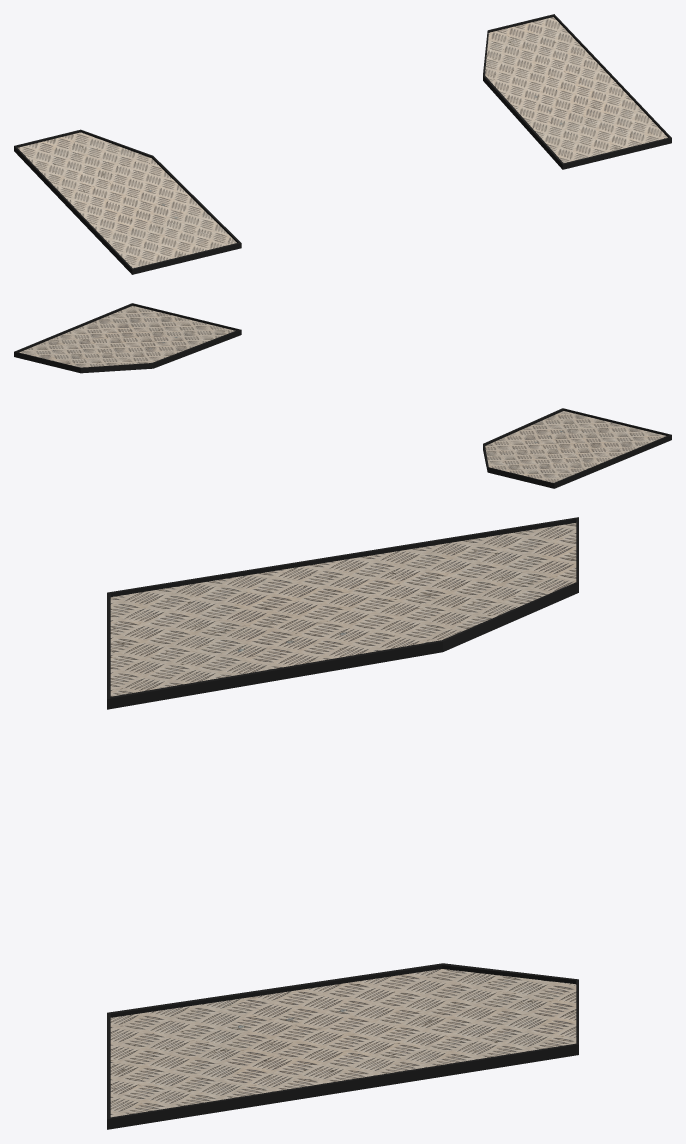
The model's file is chodnik.obj.
The picture shows the model from 3 angles, top to bottom: view 1: azimuth 30°, elevation 25°; view 2: azimuth 150°, elevation 25°; view 3: azimuth 270°, elevation 25°; orthographic projection. The views are drawn at different scales.
Visible parts, largest first — view 1: Plane.066_Plane.073, Plane.055_Plane.061; view 2: Plane.066_Plane.073, Plane.055_Plane.061; view 3: Plane.066_Plane.073, Plane.055_Plane.061.
Boxes of the visible parts, x1,y1,x2,y2 form: Plane.066_Plane.073: [18, 17, 667, 268]; Plane.055_Plane.061: [14, 14, 671, 274]; Plane.066_Plane.073: [19, 306, 665, 482]; Plane.055_Plane.061: [14, 303, 671, 488]; Plane.066_Plane.073: [110, 523, 576, 1117]; Plane.055_Plane.061: [107, 517, 578, 1129].
Bounding box in the file's own units: 1.85 × 0.1398 × 0.6982.
